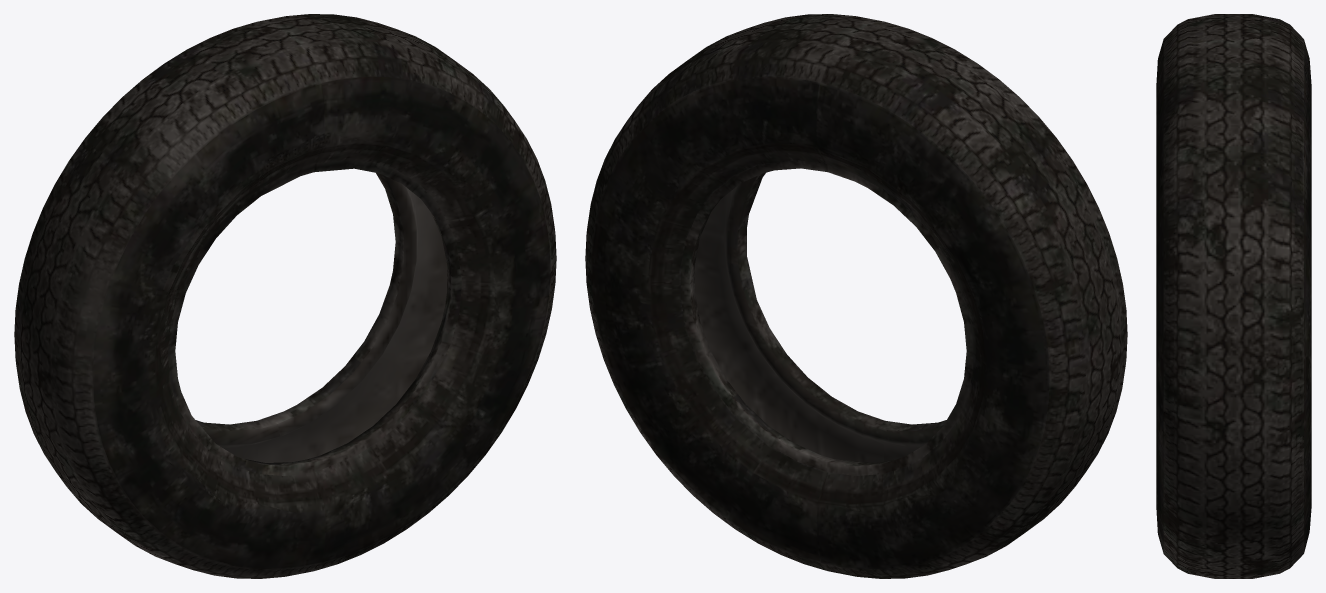
File: tyre.glb
3 views of the same model, side by side, from view 1: azimuth 30°, elevation 25°; view 2: azimuth 150°, elevation 25°; view 3: azimuth 270°, elevation 25° (orthographic). The views are drawn at different scales.
Visible parts, largest first — view 1: old_tyre; view 2: old_tyre; view 3: old_tyre.
Boxes of the visible parts, x1,y1,x2,y2 form: old_tyre: (14, 14, 556, 578); old_tyre: (585, 14, 1127, 578); old_tyre: (1156, 14, 1311, 578).
Size of the model in its own units: 0.6 by 0.6 by 0.165.
Materials: 1 (1 with a texture image).
